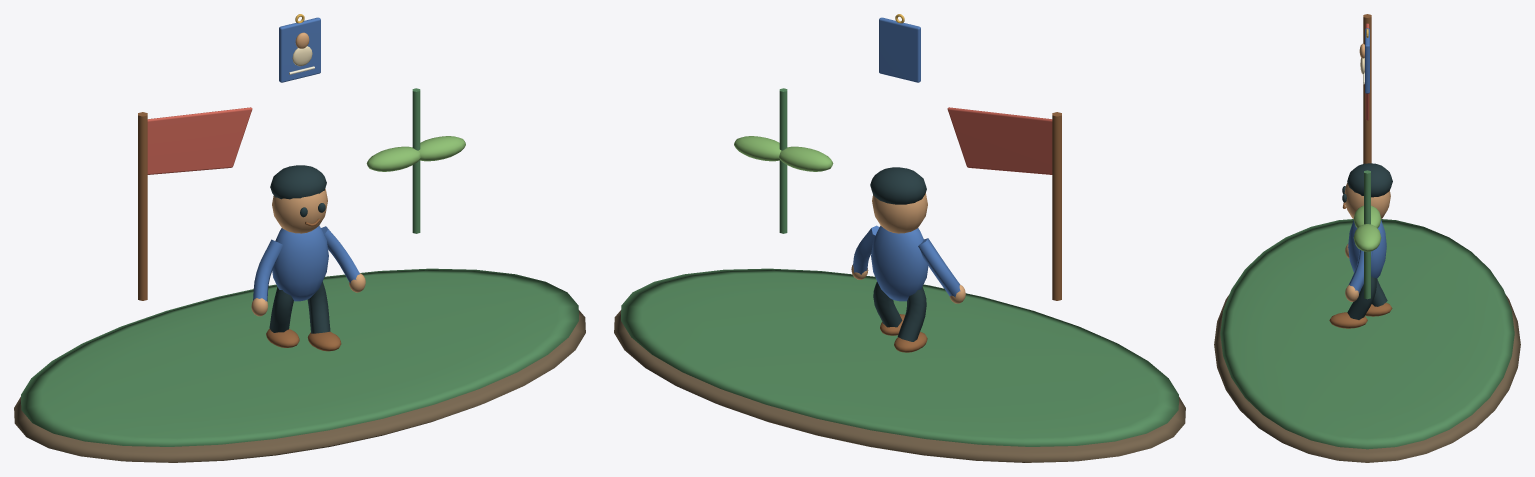
Rendered from complete-first-first-grown-gentleman.glb.
3 renders of one model, left to right at view 1: azimuth 30°, elevation 25°; view 2: azimuth 150°, elevation 25°; view 3: azimuth 270°, elevation 25°, orthographic. The views are drawn at different scales.
Visible parts, largest first — view 1: complete-first-first-grown-gentleman_surface_01, complete-first-first-grown-gentleman_surface_00, complete-first-first-grown-gentleman_surface_07, complete-first-first-grown-gentleman_surface_03, complete-first-first-grown-gentleman_surface_06, complete-first-first-grown-gentleman_surface_02, complete-first-first-grown-gentleman_surface_05, complete-first-first-grown-gentleman_surface_04; view 2: complete-first-first-grown-gentleman_surface_01, complete-first-first-grown-gentleman_surface_00, complete-first-first-grown-gentleman_surface_07, complete-first-first-grown-gentleman_surface_03, complete-first-first-grown-gentleman_surface_06, complete-first-first-grown-gentleman_surface_02, complete-first-first-grown-gentleman_surface_04, complete-first-first-grown-gentleman_surface_05; view 3: complete-first-first-grown-gentleman_surface_01, complete-first-first-grown-gentleman_surface_00, complete-first-first-grown-gentleman_surface_06, complete-first-first-grown-gentleman_surface_07, complete-first-first-grown-gentleman_surface_02, complete-first-first-grown-gentleman_surface_05, complete-first-first-grown-gentleman_surface_04.
Boxes of the visible parts, <box> form: complete-first-first-grown-gentleman_surface_01: <box>21,88,578,446</box>; complete-first-first-grown-gentleman_surface_00: <box>14,310,585,462</box>; complete-first-first-grown-gentleman_surface_07: <box>253,17,359,301</box>; complete-first-first-grown-gentleman_surface_03: <box>147,107,252,174</box>; complete-first-first-grown-gentleman_surface_06: <box>269,165,330,333</box>; complete-first-first-grown-gentleman_surface_02: <box>138,112,341,351</box>; complete-first-first-grown-gentleman_surface_05: <box>251,32,365,316</box>; complete-first-first-grown-gentleman_surface_04: <box>366,136,465,171</box>; complete-first-first-grown-gentleman_surface_01: <box>621,88,1178,446</box>; complete-first-first-grown-gentleman_surface_00: <box>614,310,1185,462</box>; complete-first-first-grown-gentleman_surface_07: <box>853,17,960,301</box>; complete-first-first-grown-gentleman_surface_03: <box>947,107,1052,174</box>; complete-first-first-grown-gentleman_surface_06: <box>870,167,926,341</box>; complete-first-first-grown-gentleman_surface_02: <box>880,112,1061,352</box>; complete-first-first-grown-gentleman_surface_04: <box>734,136,833,171</box>; complete-first-first-grown-gentleman_surface_05: <box>851,193,965,303</box>; complete-first-first-grown-gentleman_surface_01: <box>1220,170,1514,449</box>; complete-first-first-grown-gentleman_surface_00: <box>1214,294,1520,462</box>; complete-first-first-grown-gentleman_surface_06: <box>1342,163,1392,319</box>; complete-first-first-grown-gentleman_surface_07: <box>1348,28,1386,293</box>; complete-first-first-grown-gentleman_surface_02: <box>1329,14,1392,328</box>; complete-first-first-grown-gentleman_surface_05: <box>1344,43,1390,301</box>; complete-first-first-grown-gentleman_surface_04: <box>1353,205,1381,251</box>.
Bounding box in the file's own units: 4.56 × 2.96 × 2.5.
